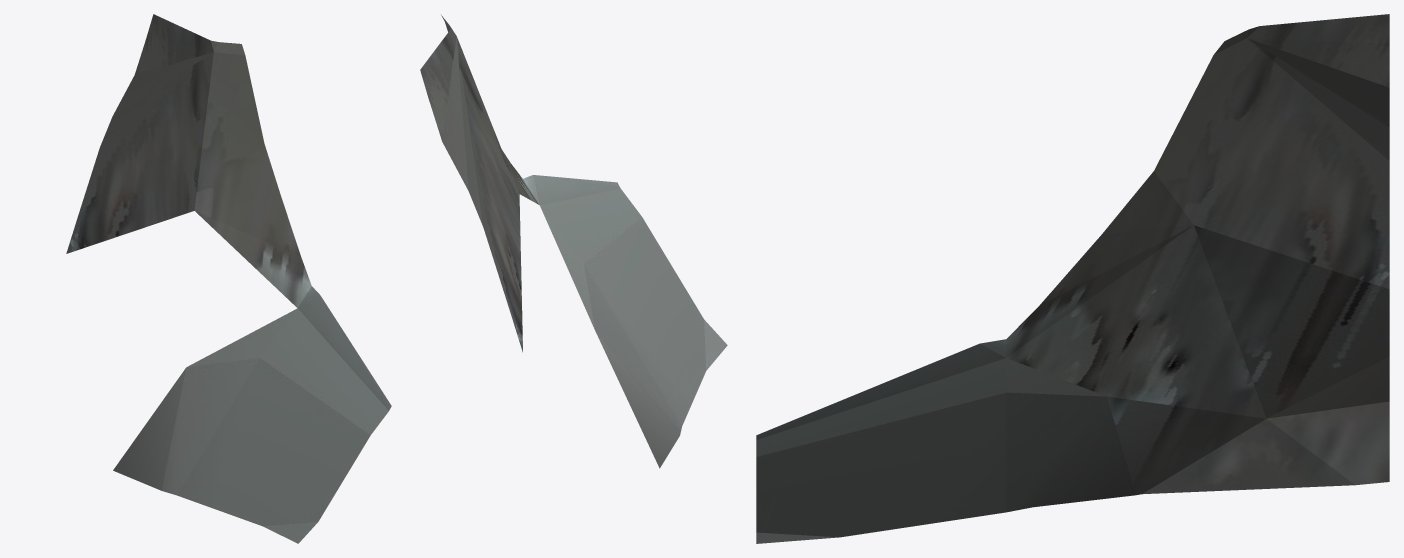
The picture shows the model from 3 angles, left to right: view 1: azimuth 30°, elevation 25°; view 2: azimuth 150°, elevation 25°; view 3: azimuth 270°, elevation 25°; orthographic projection. The views are drawn at different scales.
Size of the model in its own units: 0.4169 by 0.8373 by 0.8373.
Materials: 2 (2 with a texture image).
